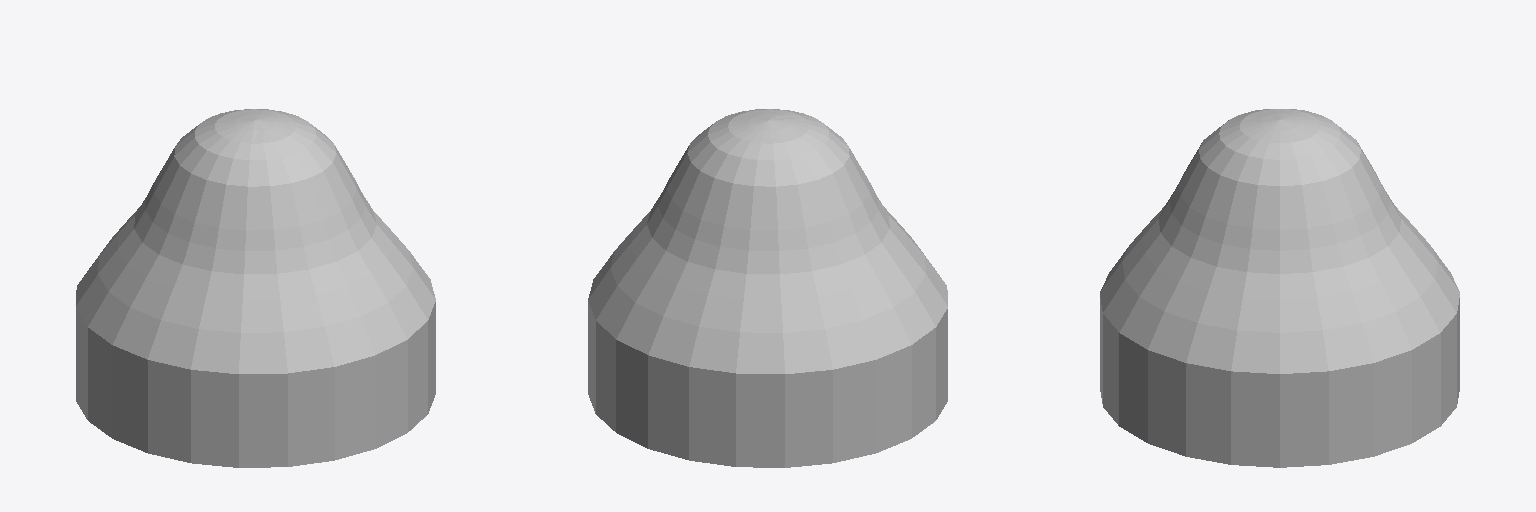
Rendered from Bumper.obj.
3 renders of one model, left to right at view 1: azimuth 30°, elevation 25°; view 2: azimuth 150°, elevation 25°; view 3: azimuth 270°, elevation 25°, orthographic.
Parts seen in each view (by area): view 1: pCylinder1; view 2: pCylinder1; view 3: pCylinder1.
Boxes of the visible parts, <box> form: pCylinder1: <box>76,109,435,467</box>; pCylinder1: <box>588,109,947,467</box>; pCylinder1: <box>1100,109,1459,467</box>.
Size of the model in its own units: 3.54 by 2.95 by 3.55.